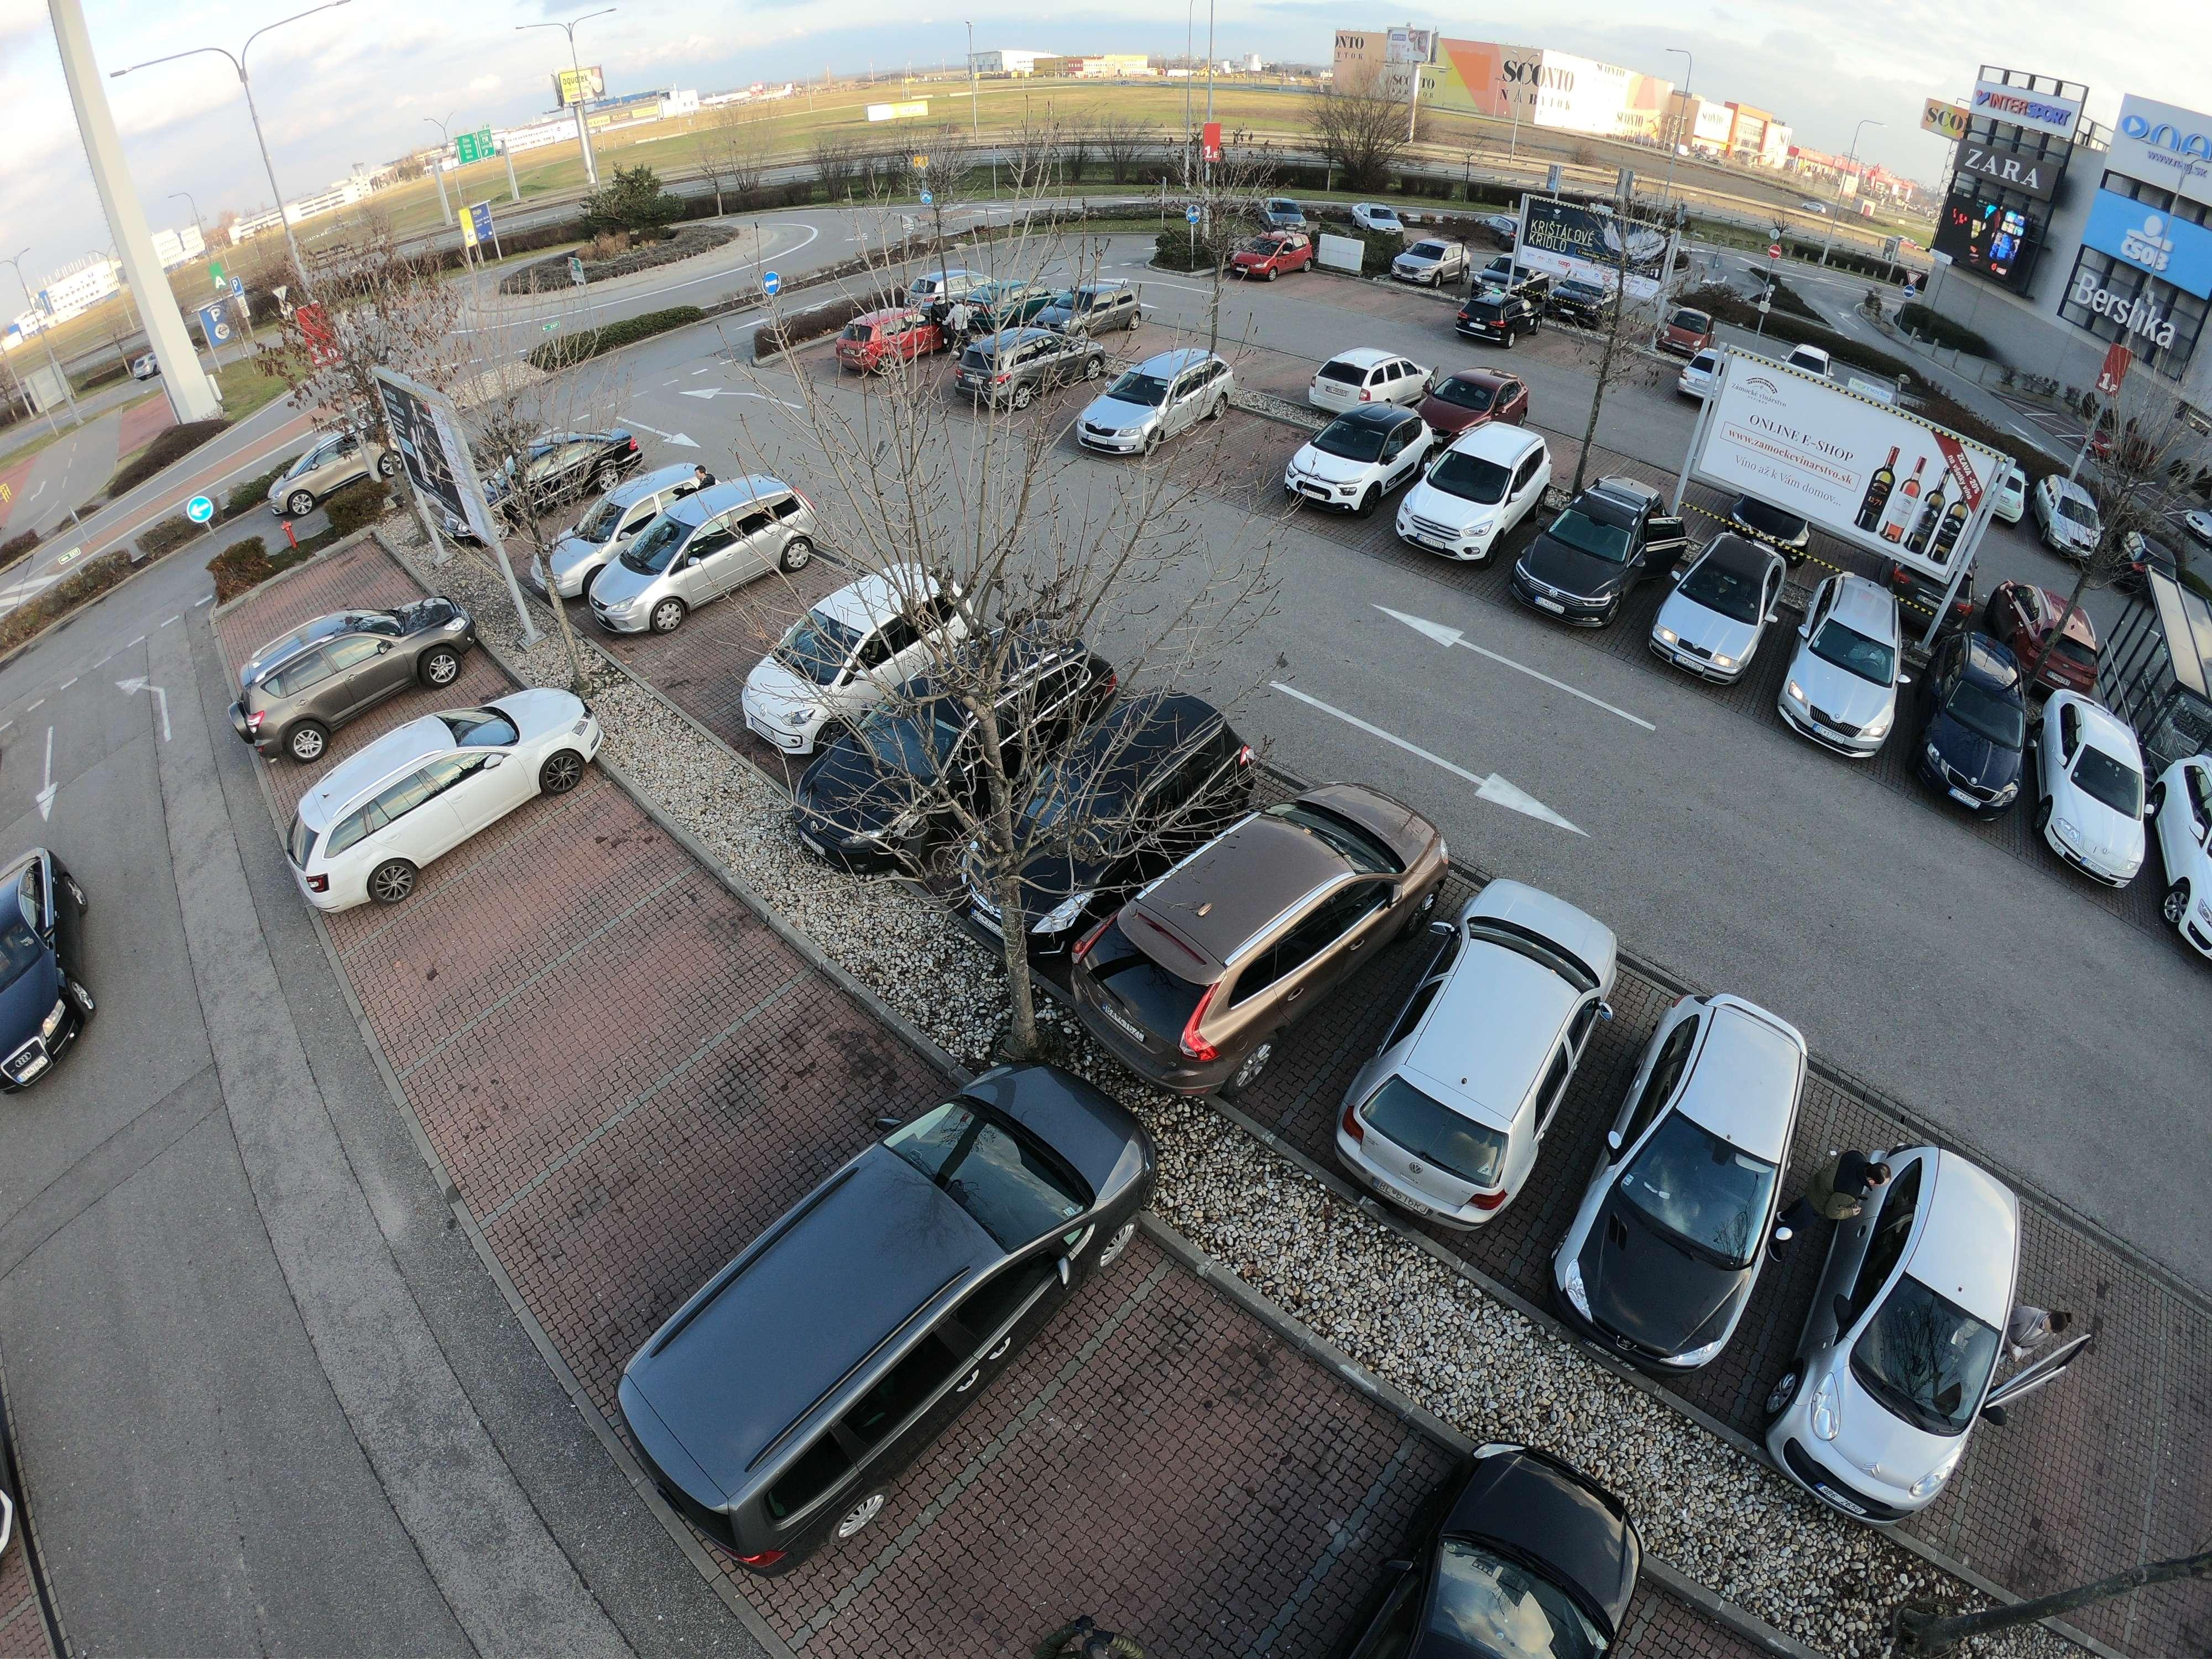empty: (620, 1077, 1181, 1561), (1777, 1126, 2090, 1530), (1566, 979, 1855, 1377), (1341, 875, 1629, 1225), (1094, 786, 1437, 1070), (1278, 1464, 1660, 1656), (308, 697, 594, 885), (1681, 559, 1909, 730), (566, 481, 819, 633), (233, 592, 481, 741), (749, 572, 960, 723), (1409, 439, 1623, 587), (1777, 570, 1932, 755), (2024, 702, 2168, 887), (5, 830, 103, 1098), (1381, 422, 1564, 565), (1508, 484, 1686, 629), (1895, 643, 2038, 814), (1649, 530, 1804, 685), (1069, 352, 1247, 464), (1278, 411, 1442, 516), (2149, 728, 2212, 965), (500, 429, 655, 516), (1296, 347, 1435, 422), (1423, 366, 1531, 429), (1453, 300, 1533, 354), (1385, 240, 1468, 289)
occupied: (989, 1431, 1287, 1635), (2010, 1253, 2142, 1549), (587, 1121, 827, 1241), (531, 960, 707, 1075), (691, 538, 834, 678), (448, 866, 617, 960), (249, 561, 385, 640), (1209, 422, 1291, 472)
